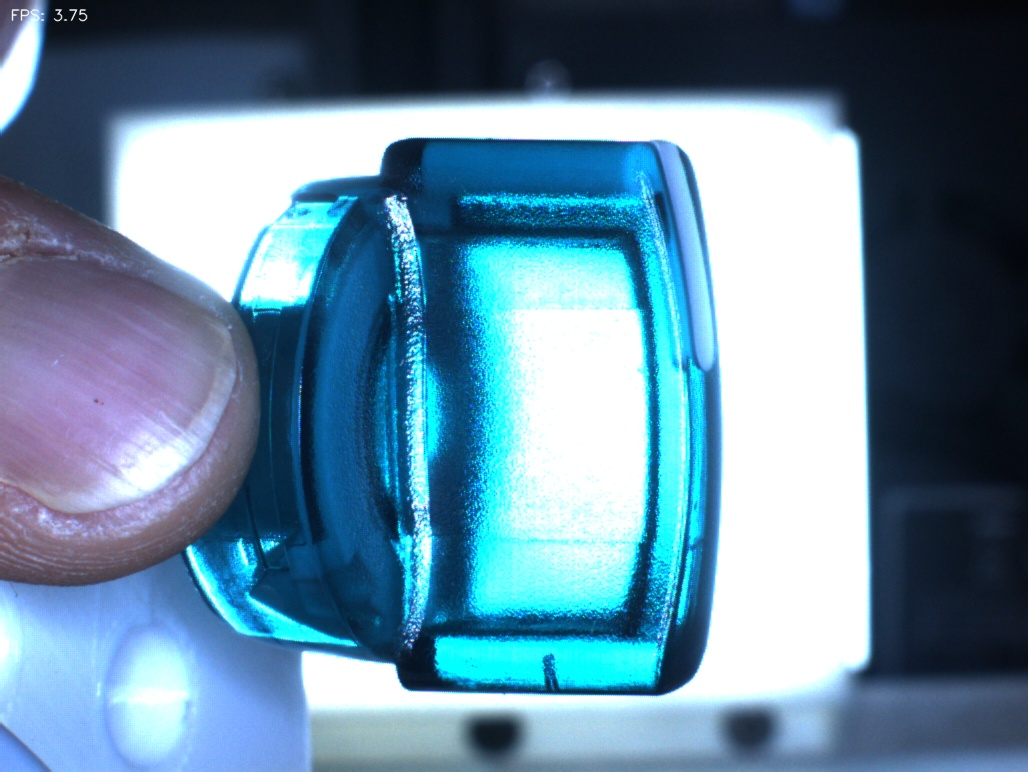Bulle: (511, 637, 596, 720)
